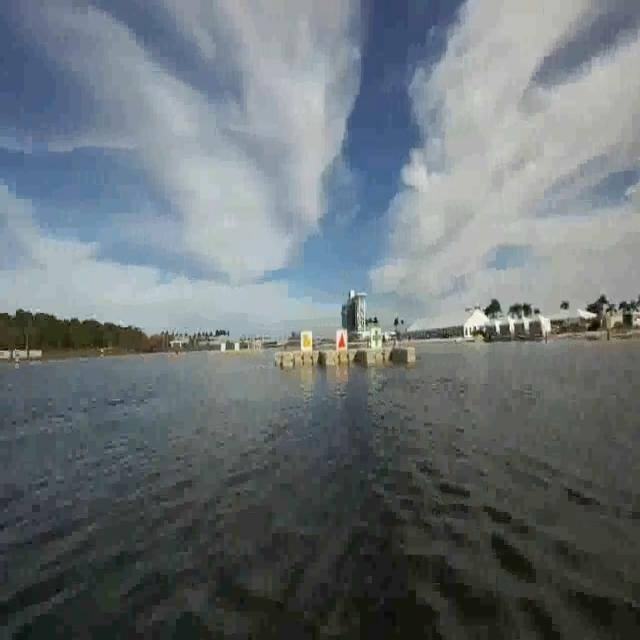blue-cross: (370, 328, 383, 348)
red-dot: (336, 329, 348, 350)
yellow-duck: (300, 329, 312, 354)
